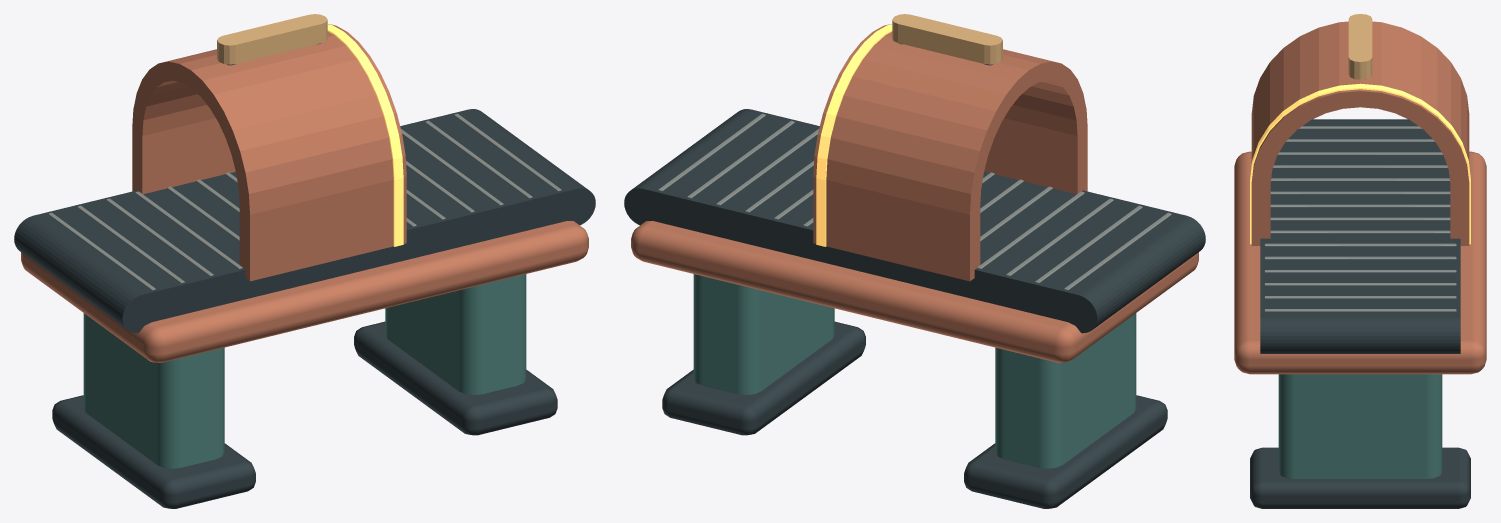
Rendered from kit_text_machine_v1.glb.
3 views of the same model, side by side, from view 1: azimuth 30°, elevation 25°; view 2: azimuth 150°, elevation 25°; view 3: azimuth 270°, elevation 25° (orthographic). The views are drawn at different scales.
Visible parts, largest first — view 1: body, belt, glow; view 2: body, belt, glow; view 3: body, belt, glow.
Part boxes in pixels (<box>): body: <box>21,14,588,508</box>; belt: <box>14,109,595,333</box>; glow: <box>327,24,403,246</box>; body: <box>631,14,1198,508</box>; belt: <box>624,109,1205,333</box>; glow: <box>816,24,892,246</box>; body: <box>1234,14,1486,508</box>; belt: <box>1260,119,1460,353</box>; glow: <box>1250,83,1470,244</box>.
Size of the model in its own units: 1.6 by 1.3 by 0.8.
